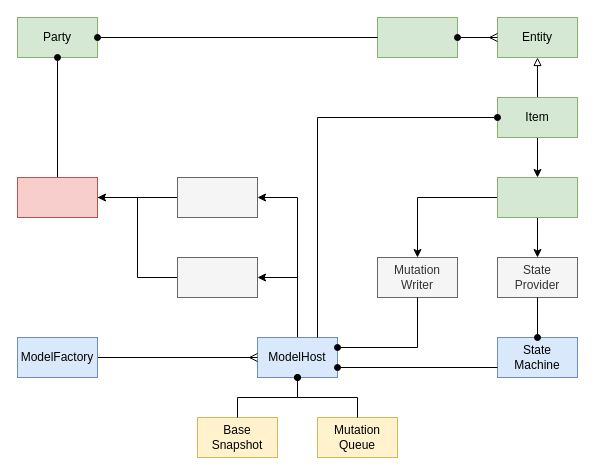
Some shapes in this 595 by 475 pixel diagram are drawn without their labels. Each missing label, with the centre of its shape:
Database: (x=417, y=37)
Feed: (x=57, y=197)
Inbound Stream: (x=217, y=197)
Model: (x=537, y=197)
Outbound Stream: (x=217, y=277)
